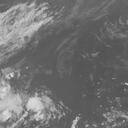cyclone: (25, 96, 61, 123)
